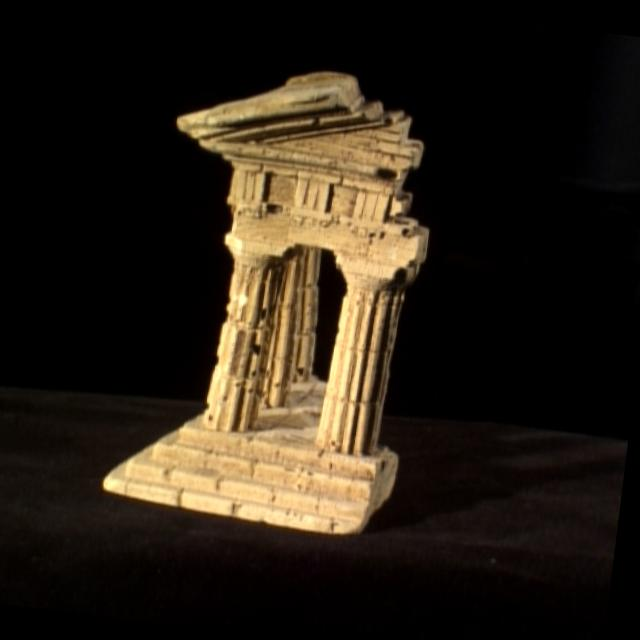Instance-Segmentation: (101, 72, 426, 534)
